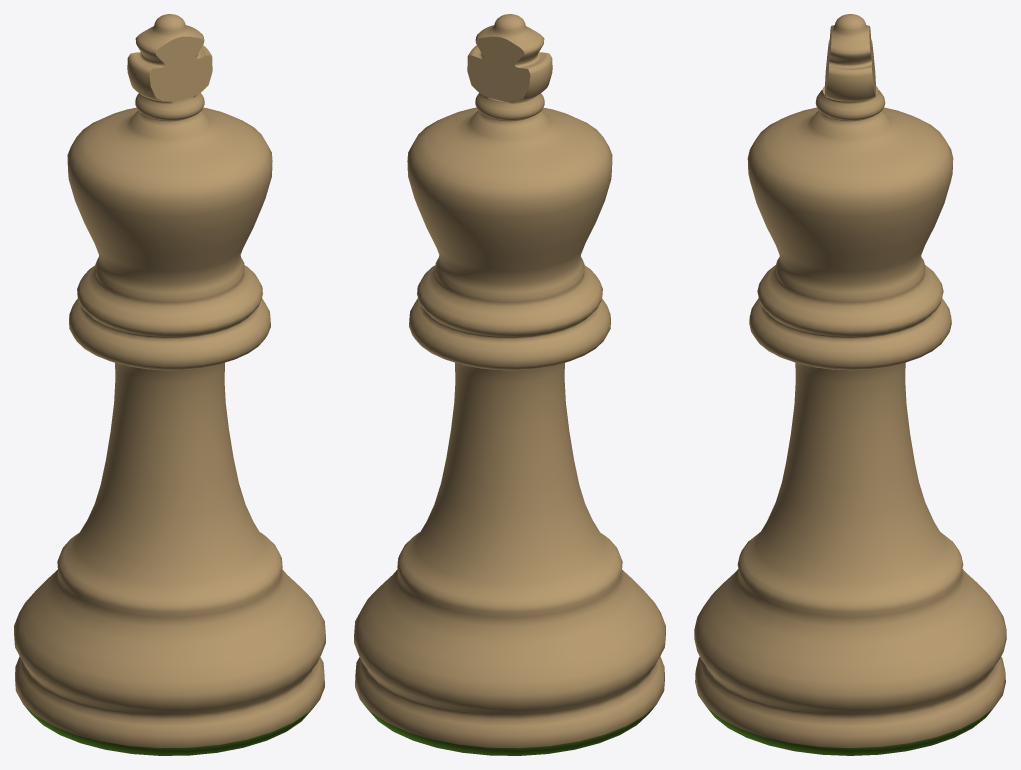
The model's file is whiteking.glb.
3 views of the same model, side by side, from view 1: azimuth 30°, elevation 25°; view 2: azimuth 150°, elevation 25°; view 3: azimuth 270°, elevation 25° (orthographic).
Parts seen in each view (by area): view 1: whiteking; view 2: whiteking; view 3: whiteking.
Part boxes in pixels (x1,y1,x2,y2): whiteking: (14, 14, 325, 755); whiteking: (354, 14, 665, 755); whiteking: (694, 14, 1006, 755).
Size of the model in its own units: 0.6948 by 1.69 by 0.6948.
